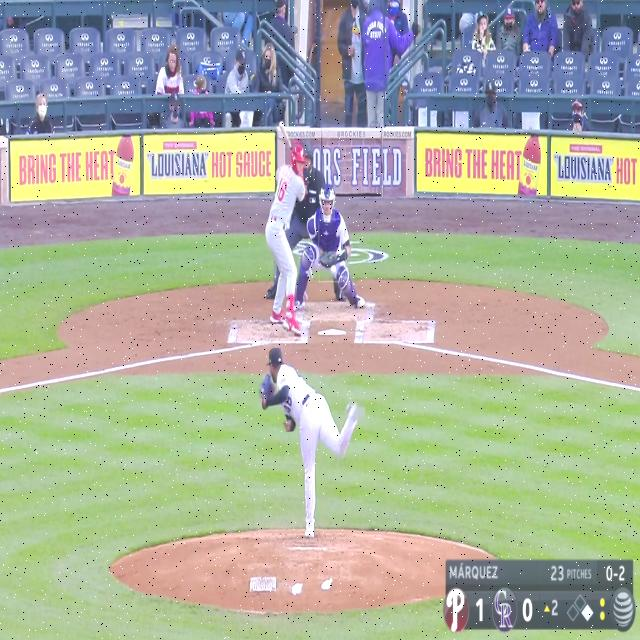baseball: (330, 264, 337, 275)
